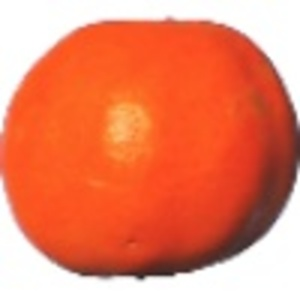tangerina: (1, 16, 300, 280)
